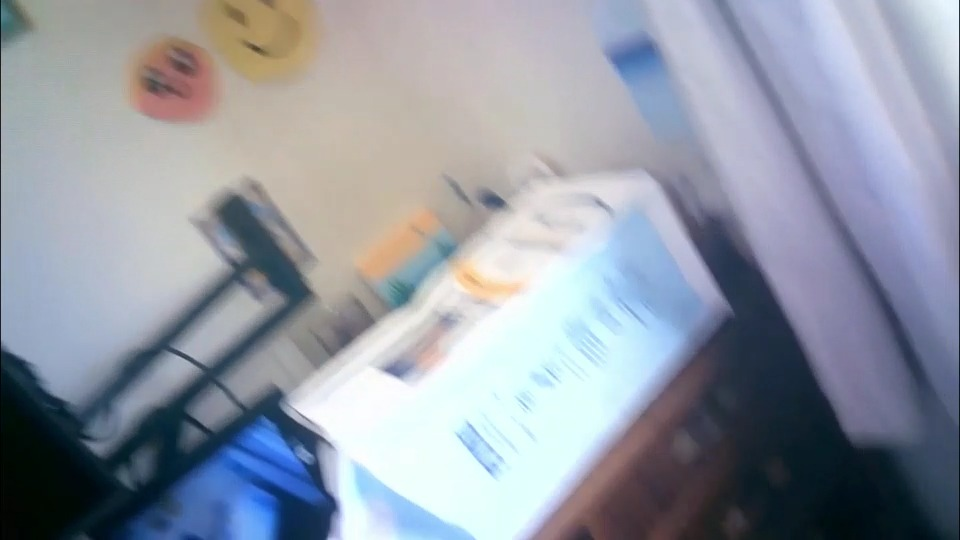wheat_flour_blue_label: (277, 174, 728, 539)
